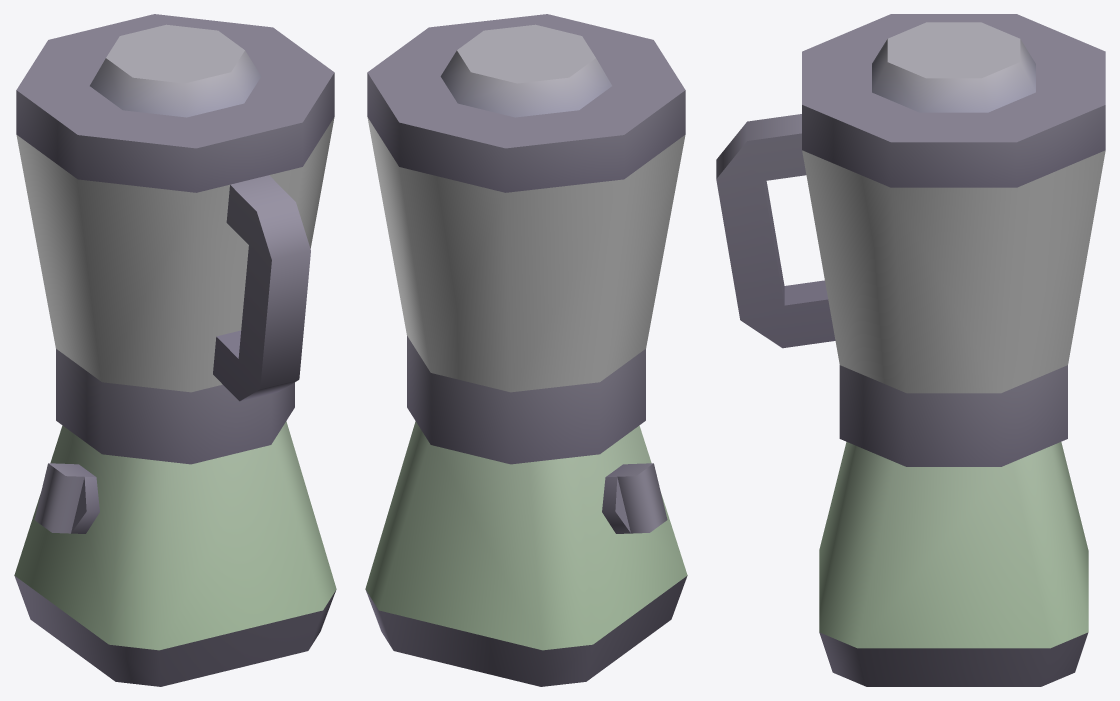
File: blender.glb
The picture shows the model from 3 angles, left to right: view 1: azimuth 30°, elevation 25°; view 2: azimuth 150°, elevation 25°; view 3: azimuth 270°, elevation 25°; orthographic projection. The views are drawn at different scales.
Visible parts, largest first — view 1: blender; view 2: blender; view 3: blender.
Boxes of the visible parts, box(x1,y1,x2,y2) form: blender: box(14, 14, 336, 686); blender: box(365, 14, 687, 686); blender: box(716, 14, 1105, 686).
Bounding box in the file's own units: 0.1665 × 0.349 × 0.2104.
